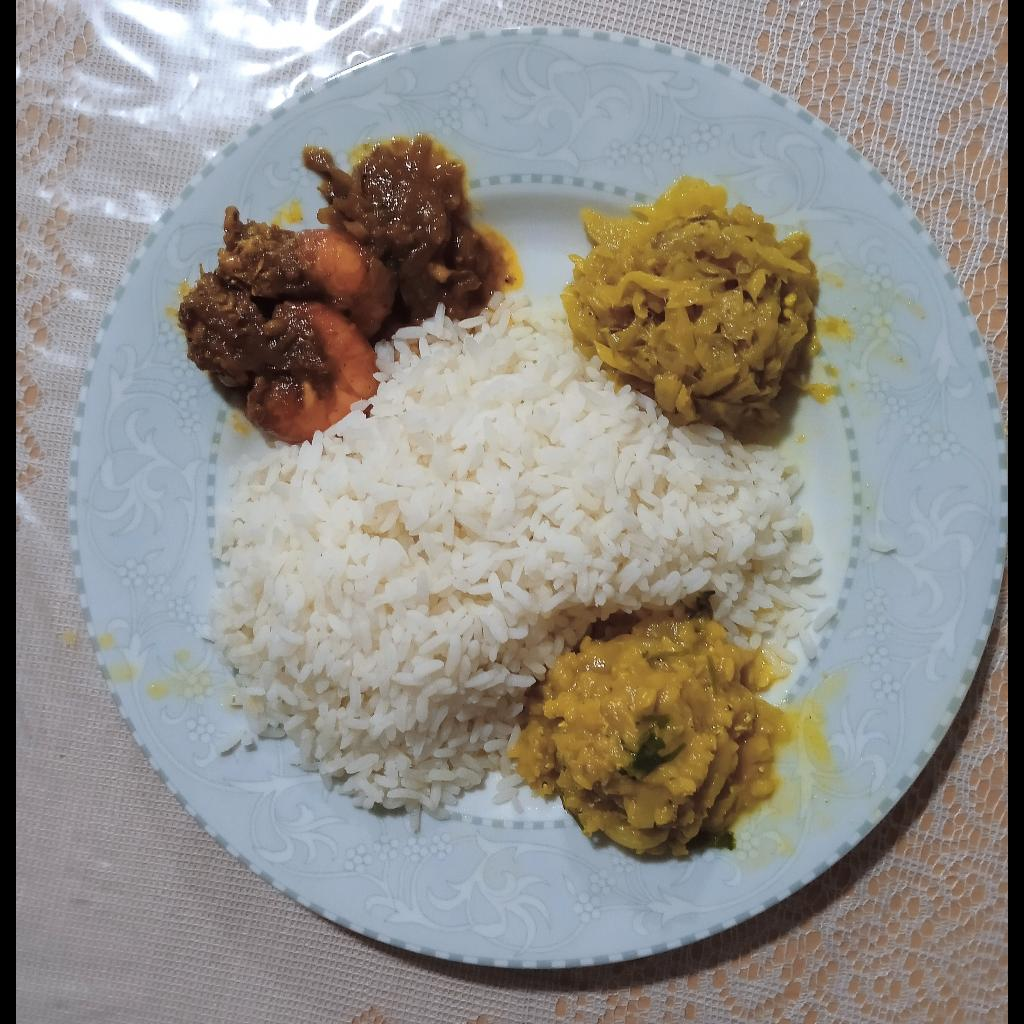cabbage: (569, 180, 826, 440)
daal: (513, 616, 776, 862)
fish: (186, 139, 481, 437)
rice: (220, 297, 822, 818)
